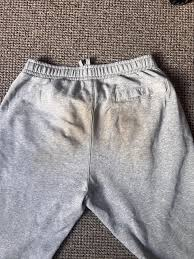earth: (67, 104, 86, 138), (119, 111, 129, 126)
